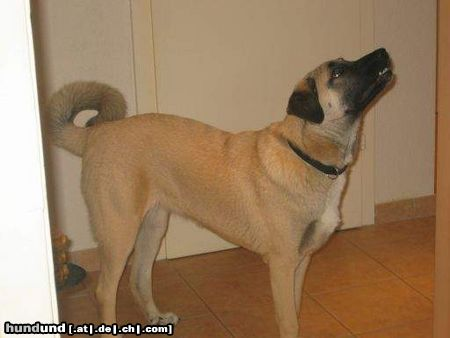kangal: (43, 45, 392, 338)
